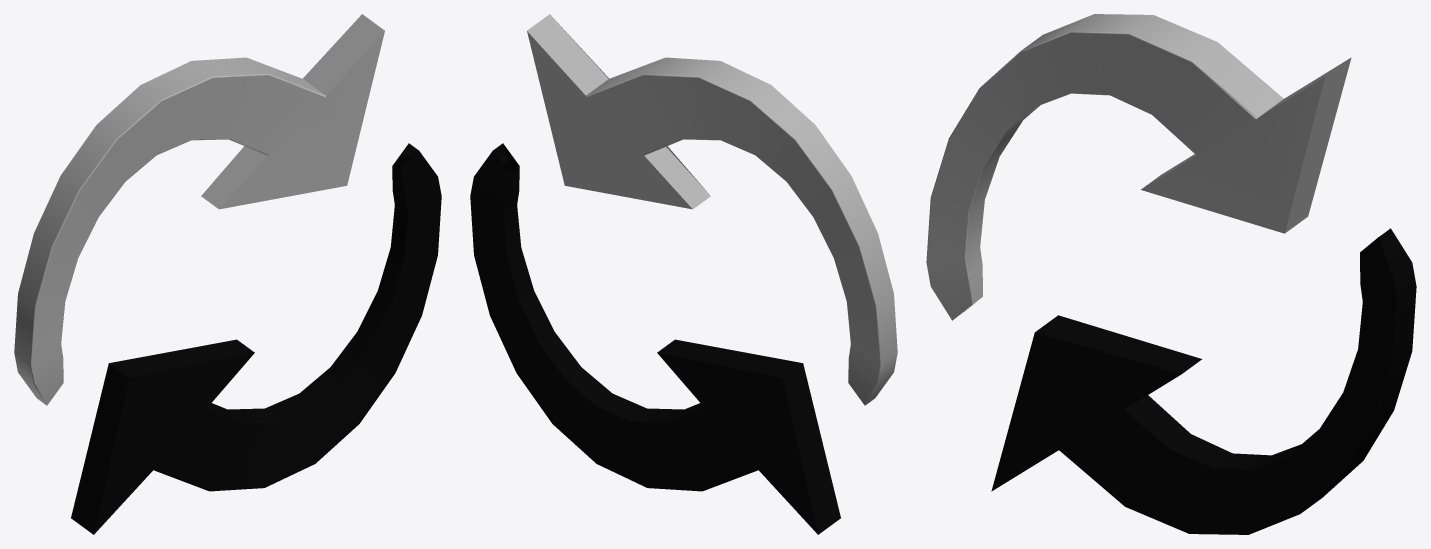
The model's file is DualityArtefact.fbx.
The picture shows the model from 3 angles, left to right: view 1: azimuth 30°, elevation 25°; view 2: azimuth 150°, elevation 25°; view 3: azimuth 330°, elevation 25°; orthographic projection. The views are drawn at different scales.
Parts seen in each view (by area): view 1: DualityArtefact; view 2: DualityArtefact; view 3: DualityArtefact.
Boxes of the visible parts, <box> form: DualityArtefact: <box>14,14,441,534</box>; DualityArtefact: <box>470,14,897,534</box>; DualityArtefact: <box>926,14,1416,534</box>.
Bounding box in the file's own units: 41.67 × 41.89 × 4.26.
